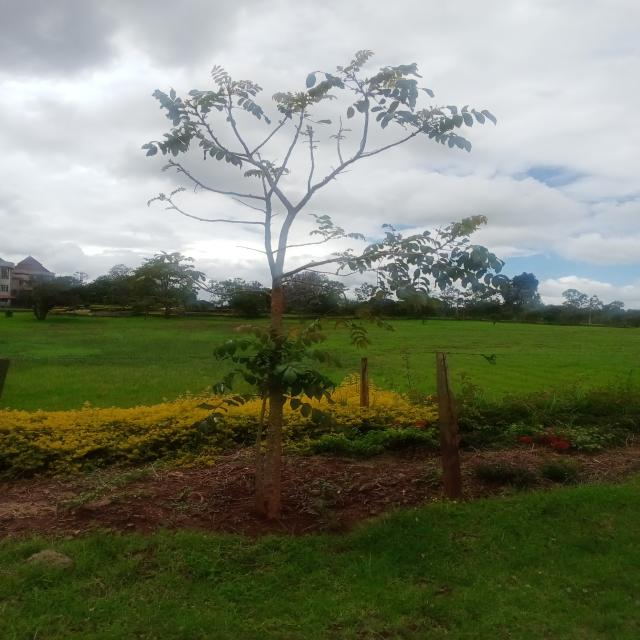Polyscias Kikuyensis: (136, 49, 508, 512)
